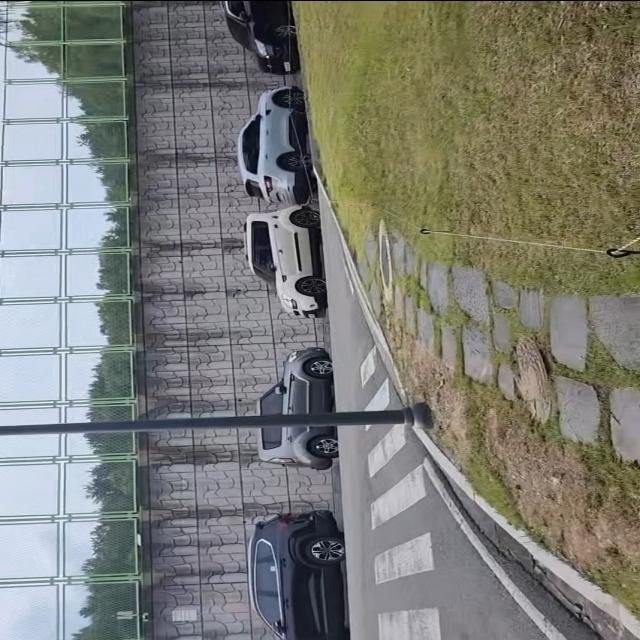obstacle: (240, 502, 357, 640), (0, 401, 427, 436), (209, 0, 309, 79), (412, 222, 464, 240), (595, 241, 640, 258)
road: (313, 168, 635, 640)
